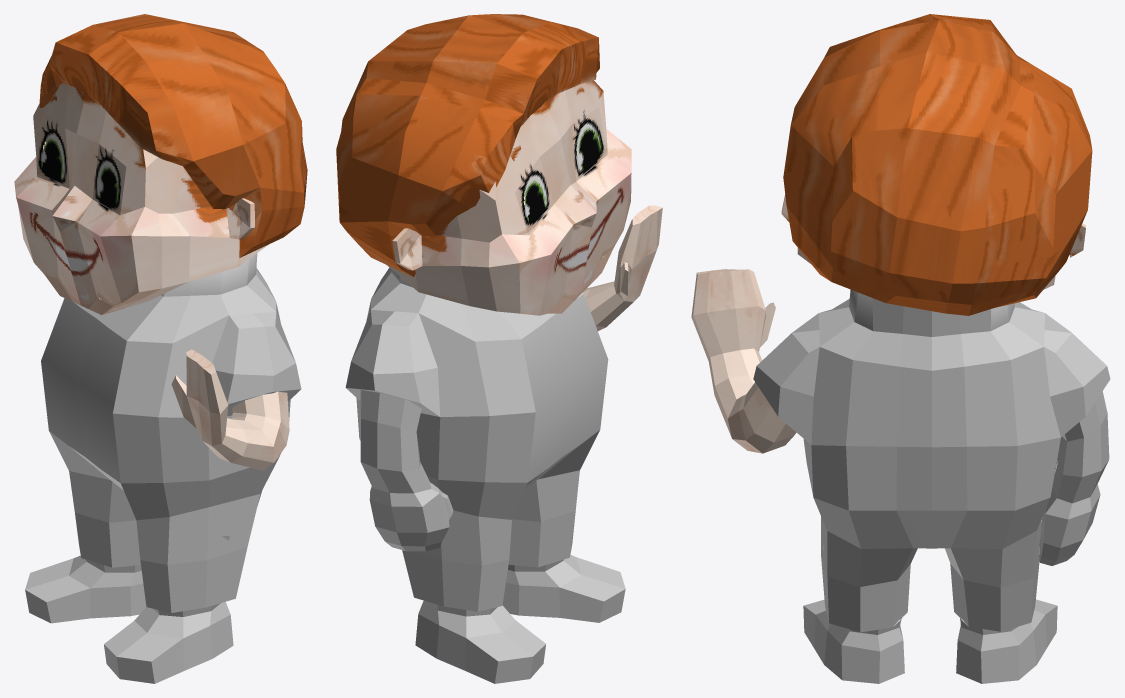
File: maskot baru 1.fbx
3 views of the same model, side by side, from view 1: azimuth 30°, elevation 25°; view 2: azimuth 150°, elevation 25°; view 3: azimuth 270°, elevation 25° (orthographic). The views are drawn at different scales.
Visible parts, largest first — view 1: Cube.010, Cube.002, Cube.001; view 2: Cube.010, Cube.002, Cube.001; view 3: Cube.010, Cube.002.
Boxes of the visible parts, <box> form: Cube.010: <box>25,253,301,683</box>; Cube.002: <box>39,14,307,257</box>; Cube.001: <box>14,83,268,314</box>; Cube.010: <box>345,205,662,683</box>; Cube.002: <box>336,14,599,276</box>; Cube.001: <box>387,80,631,315</box>; Cube.010: <box>691,269,1110,683</box>; Cube.002: <box>783,14,1092,315</box>.
Bounding box in the file's own units: 183 × 436 × 264.
